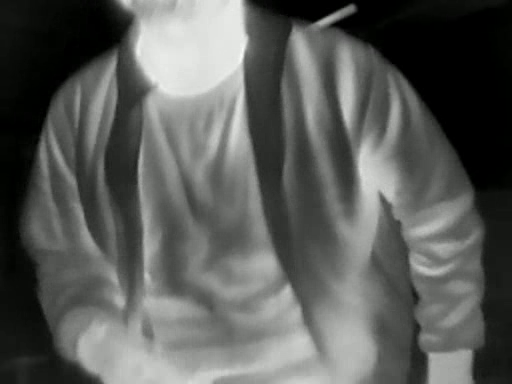chest: (64, 20, 357, 357)
